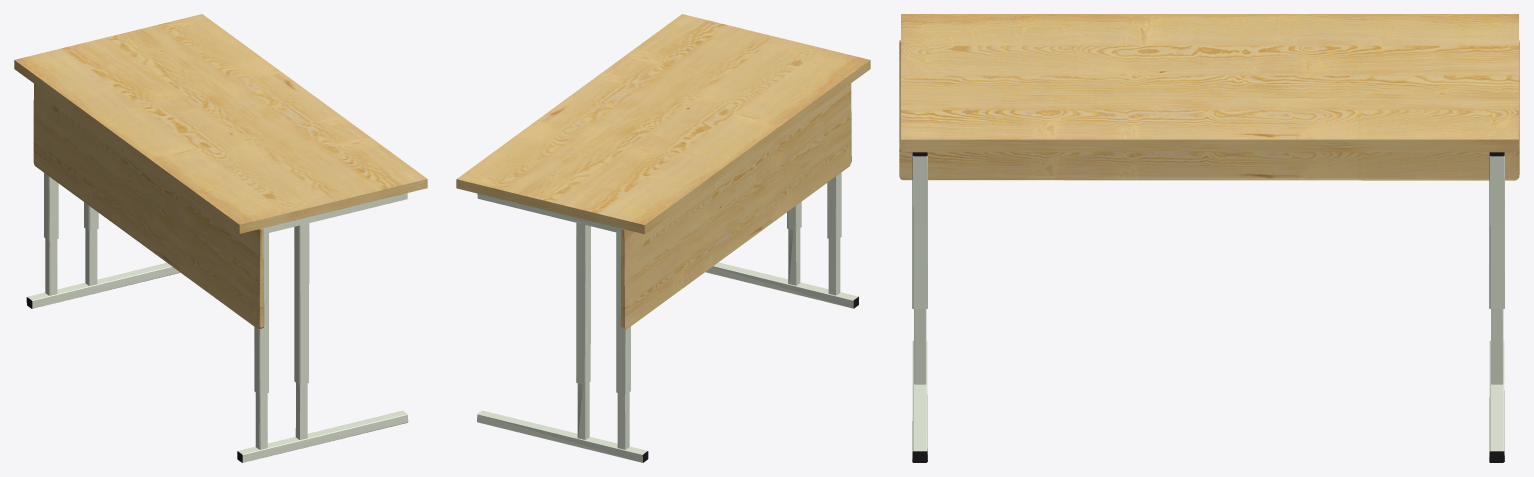
Rendered from Table.FBX.
3 views of the same model, side by side, from view 1: azimuth 30°, elevation 25°; view 2: azimuth 150°, elevation 25°; view 3: azimuth 270°, elevation 25° (orthographic). The views are drawn at different scales.
Visible parts, largest first — view 1: Table; view 2: Table; view 3: Table.
Part boxes in pixels (x1,y1,x2,y2): Table: (14, 14, 427, 462); Table: (456, 14, 870, 462); Table: (899, 14, 1519, 462).
Bounding box in the file's own units: 22.65 × 28 × 47.21.
Materials: 2 (2 with a texture image).
